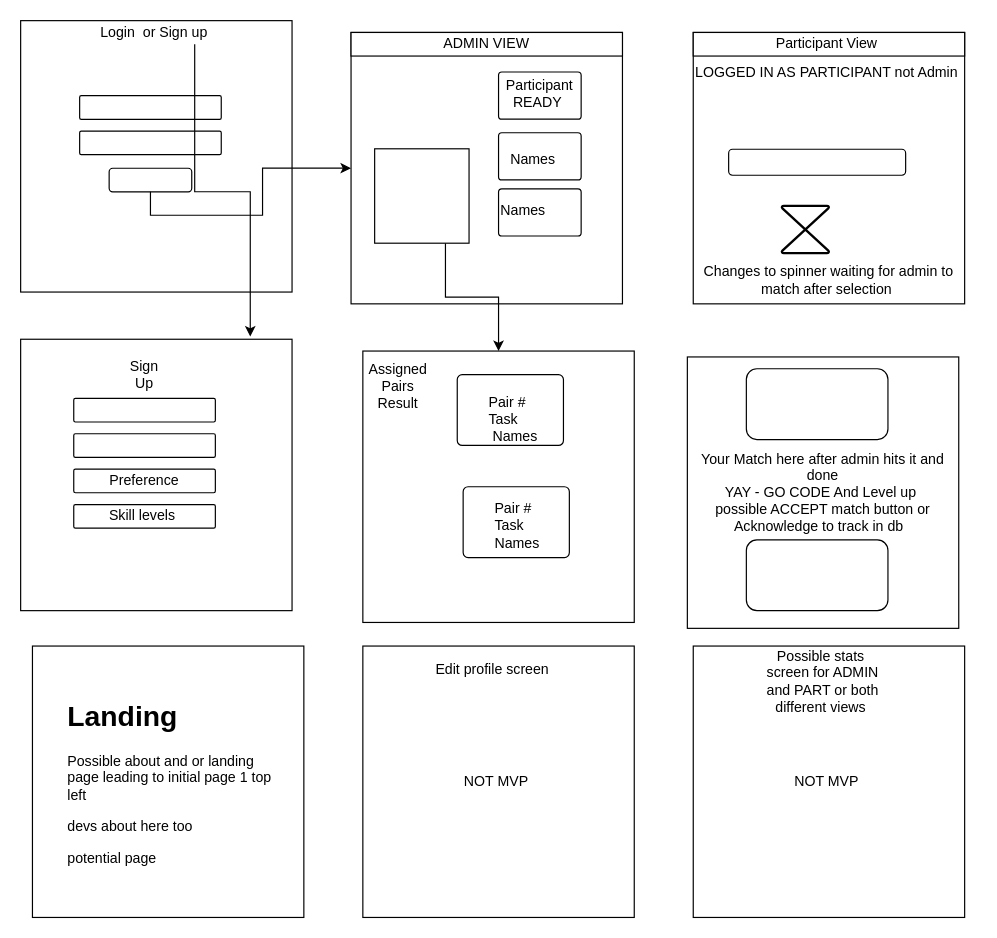
Image size: 997x938. Some labels were removed from this diagram. The shapes that lost their labels are listed below. From the top down, each one's centre as x and y in pixels, then its label:
[150,179]: LOGIN
[816,161]: Tasks like pick 5-10
[421,195]: Make Pairs BUTTON
